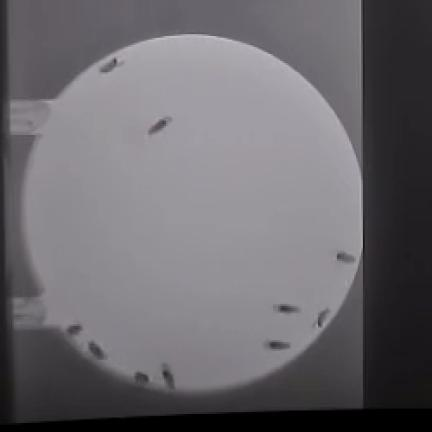fly: (149, 117, 172, 134), (101, 58, 122, 73), (161, 364, 174, 388), (89, 342, 107, 359), (315, 310, 330, 327), (265, 341, 290, 350), (337, 252, 355, 264), (274, 305, 300, 313), (66, 324, 82, 336), (135, 373, 150, 385)
